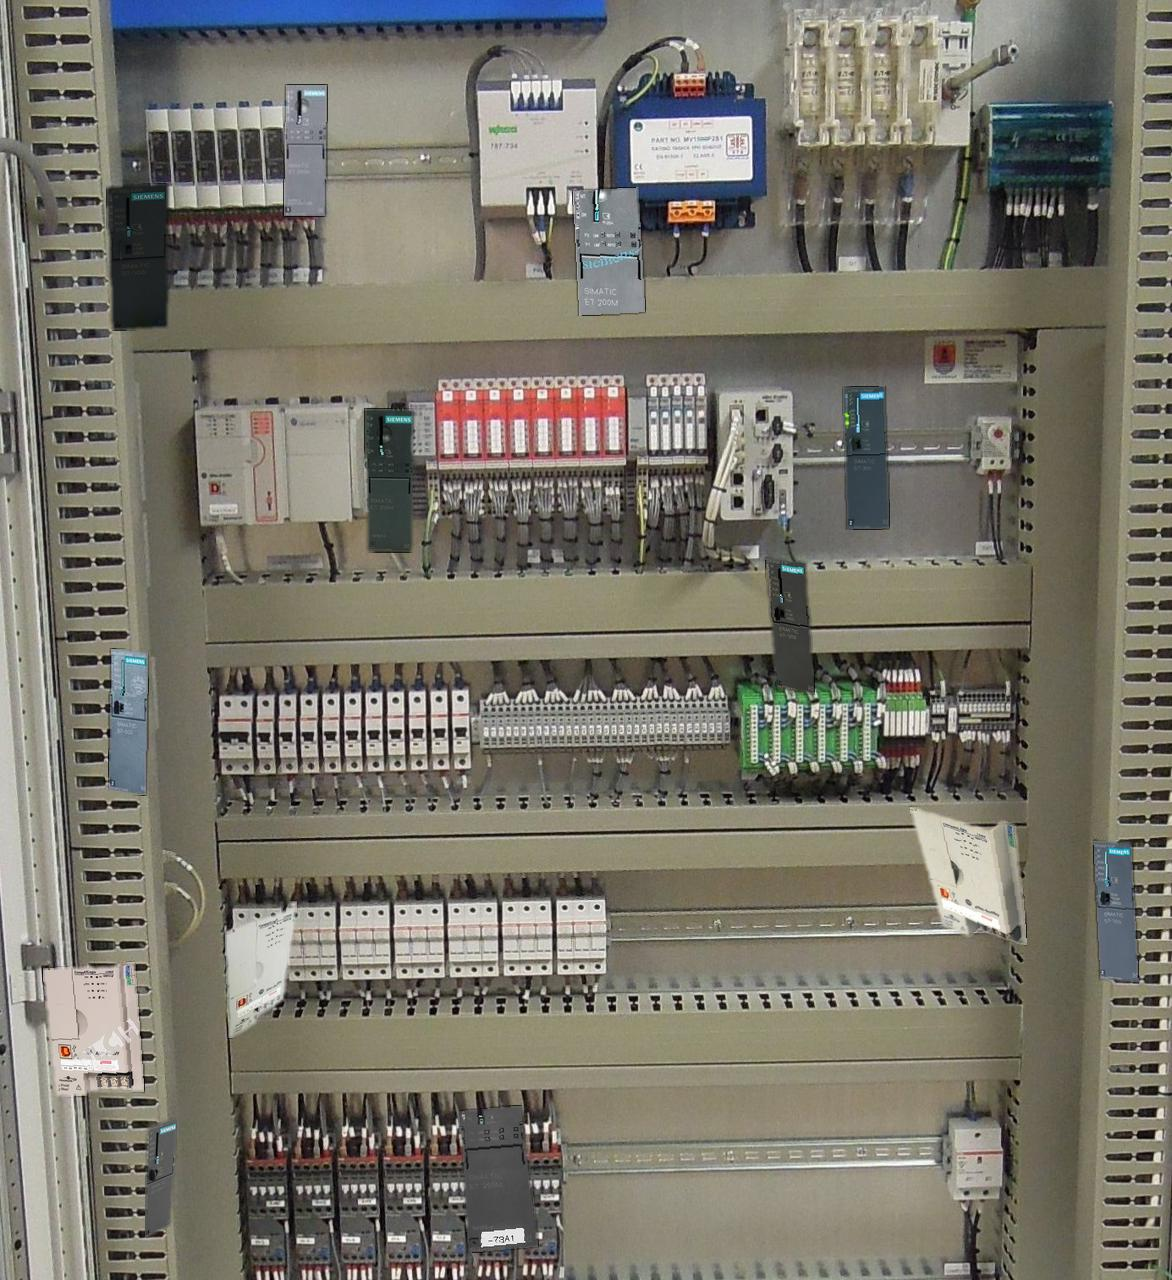AllenBradley: (910, 807, 1026, 944), (43, 963, 143, 1095), (225, 901, 296, 1037)
Siemens: (107, 183, 167, 329), (765, 557, 814, 694), (1093, 841, 1139, 981), (844, 386, 888, 529), (109, 649, 147, 794), (145, 1118, 176, 1237)
